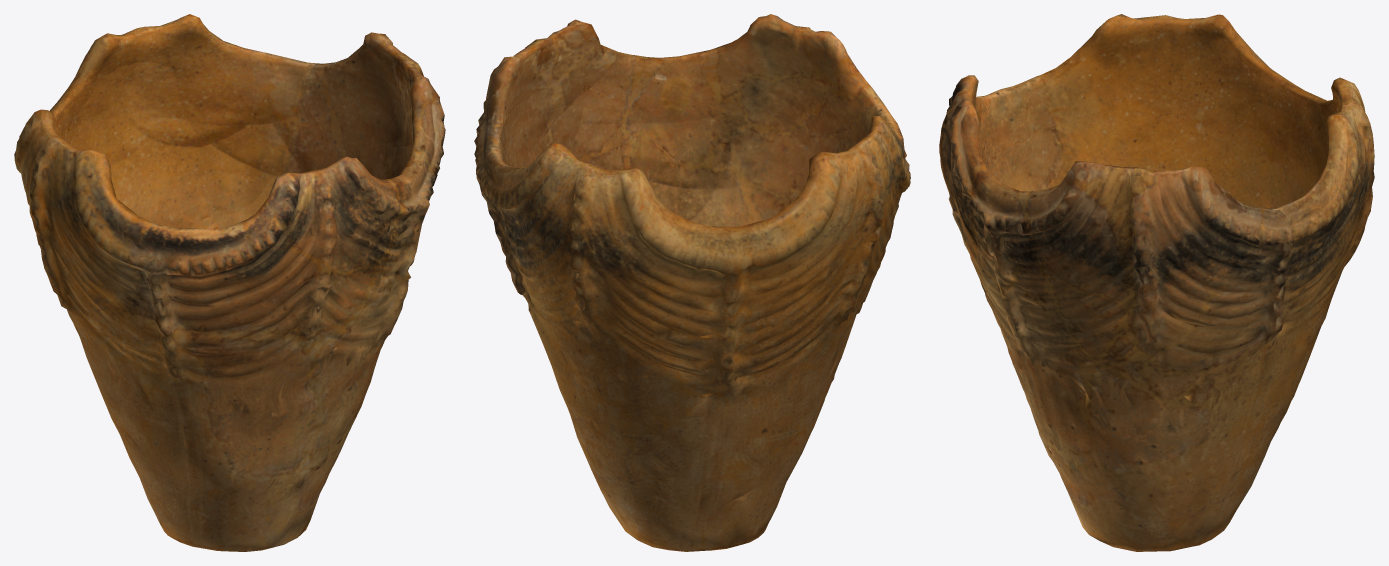
3 renders of one model, left to right at view 1: azimuth 30°, elevation 25°; view 2: azimuth 150°, elevation 25°; view 3: azimuth 270°, elevation 25°, orthographic.
Parts seen in each view (by area): view 1: UD0011_low; view 2: UD0011_low; view 3: UD0011_low.
Part boxes in pixels (box(x1,y1,x2,y2)): UD0011_low: box(14, 14, 445, 551); UD0011_low: box(474, 14, 910, 551); UD0011_low: box(939, 14, 1374, 551).
Bounding box in the file's own units: 277 × 304 × 275.
1 material, 1 textured.
